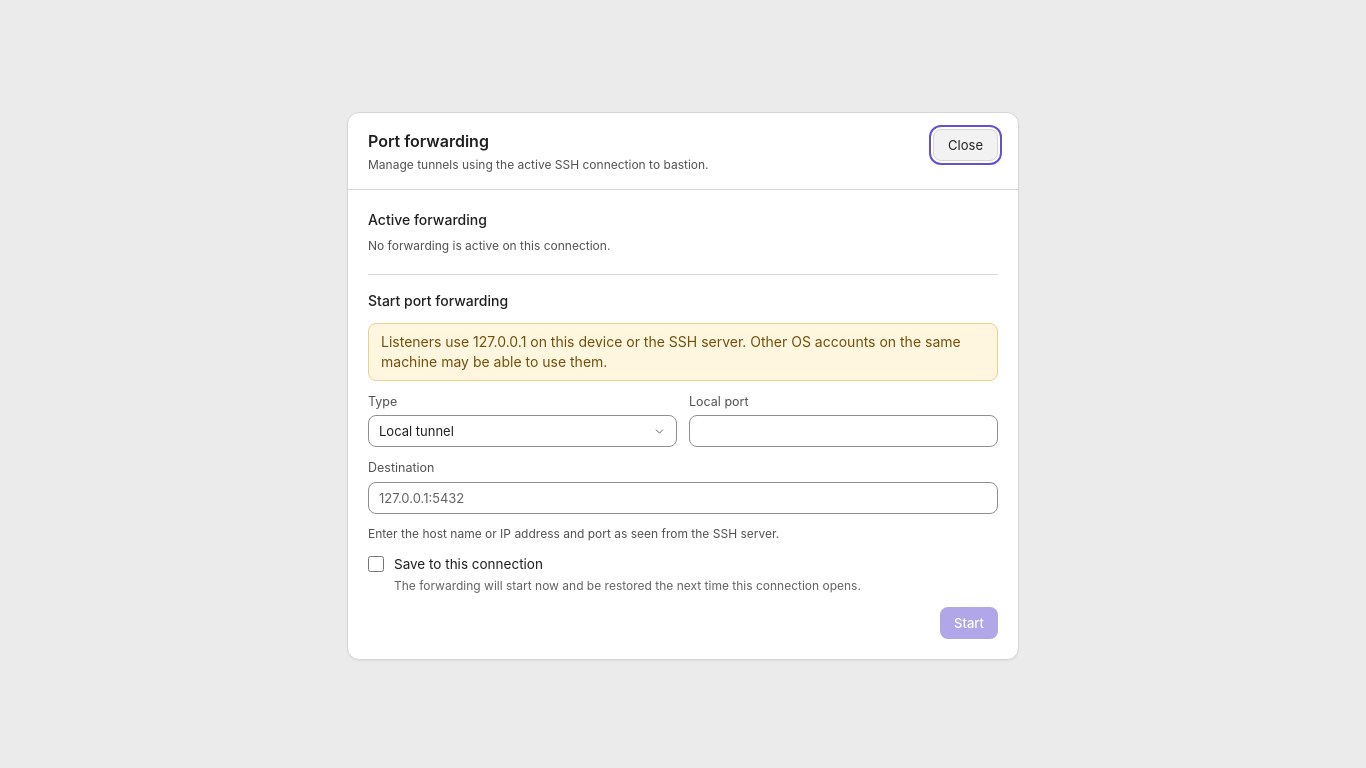
Test: TerminalPortForwards › explains when the SSH server denies the remote listener
Step 1. Select "Remote tunnel" in the dropdown labelled "Type" → (522, 431), box x1=368 y1=415 x2=677 y2=447
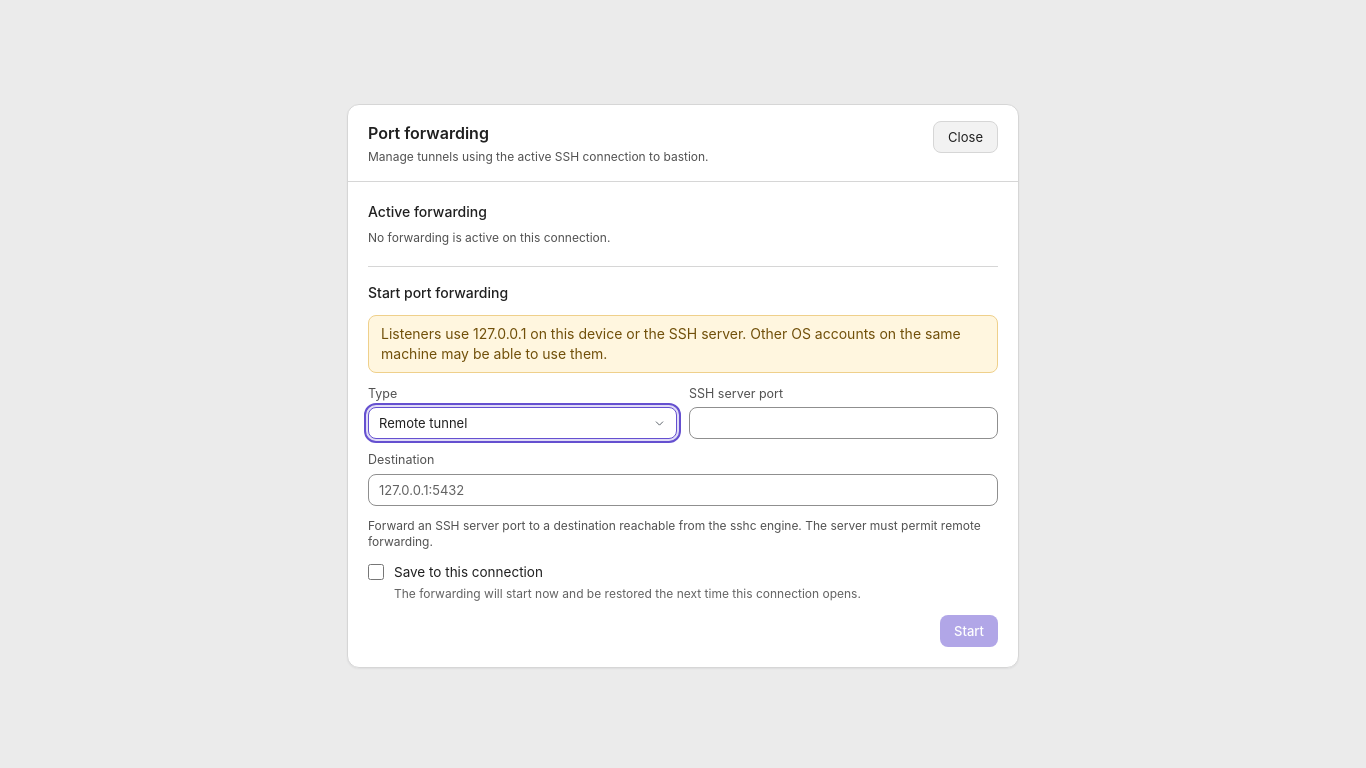
Step 2. Type "9080" into the field labelled "SSH server port" → (844, 423), box x1=689 y1=407 x2=998 y2=439
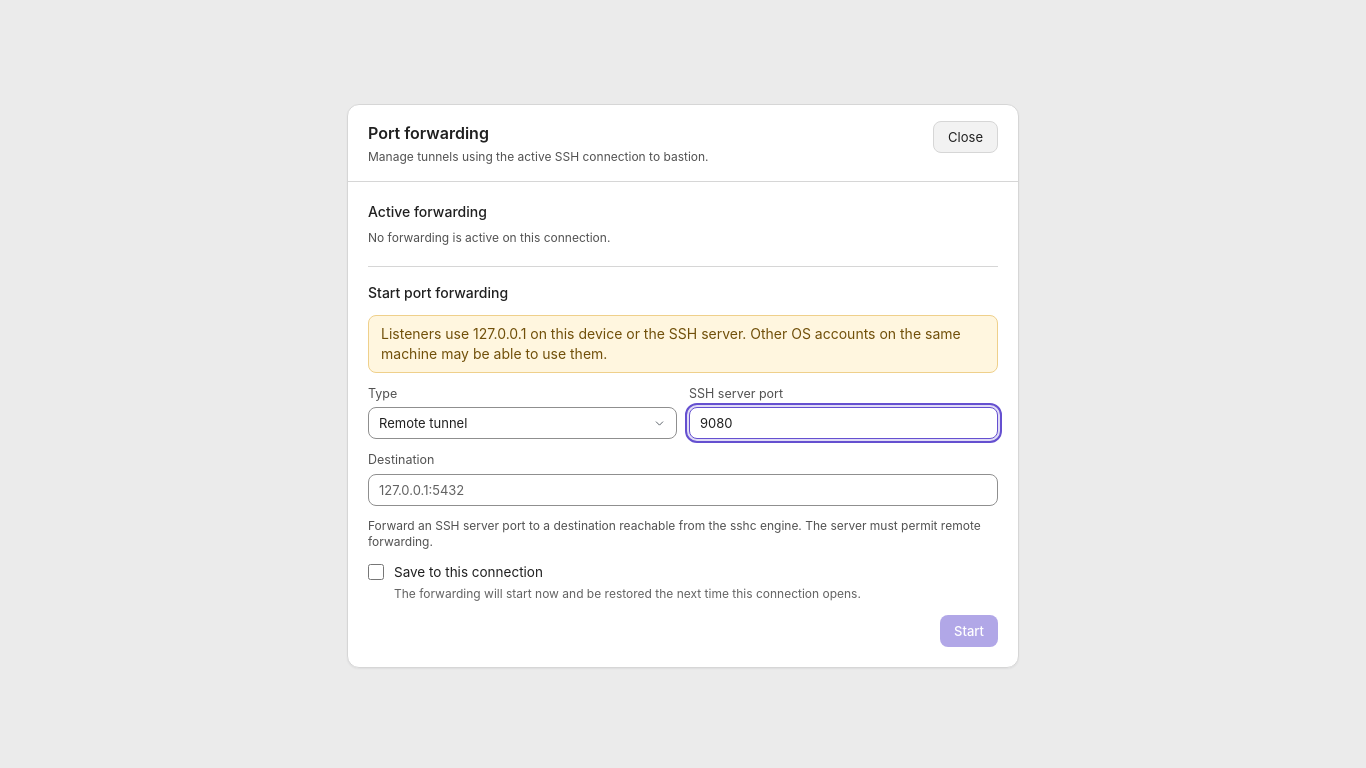
Step 3. Type "127.0.0.1:3000" into the field labelled "Destination" → (683, 490), box x1=368 y1=474 x2=998 y2=506
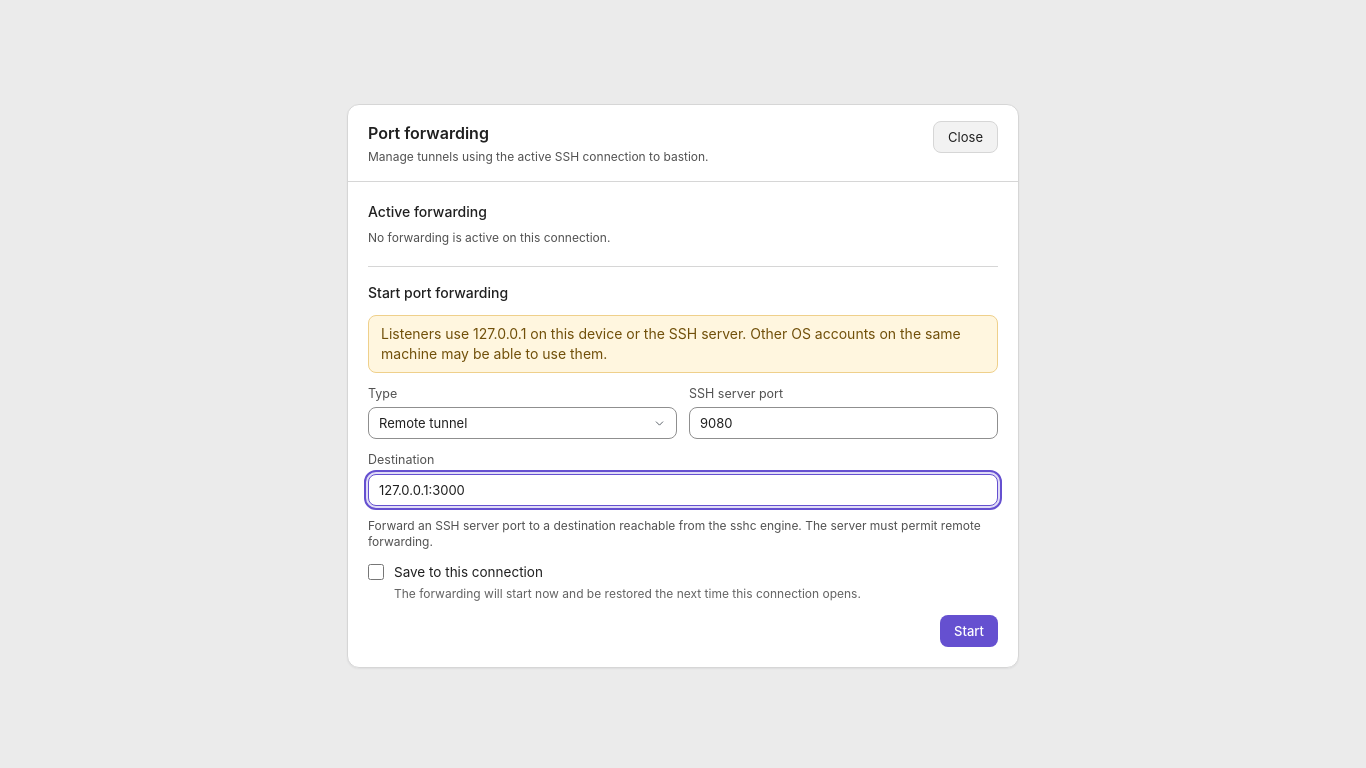
Step 4. Click the button "Start" → (969, 631), box x1=940 y1=615 x2=998 y2=647
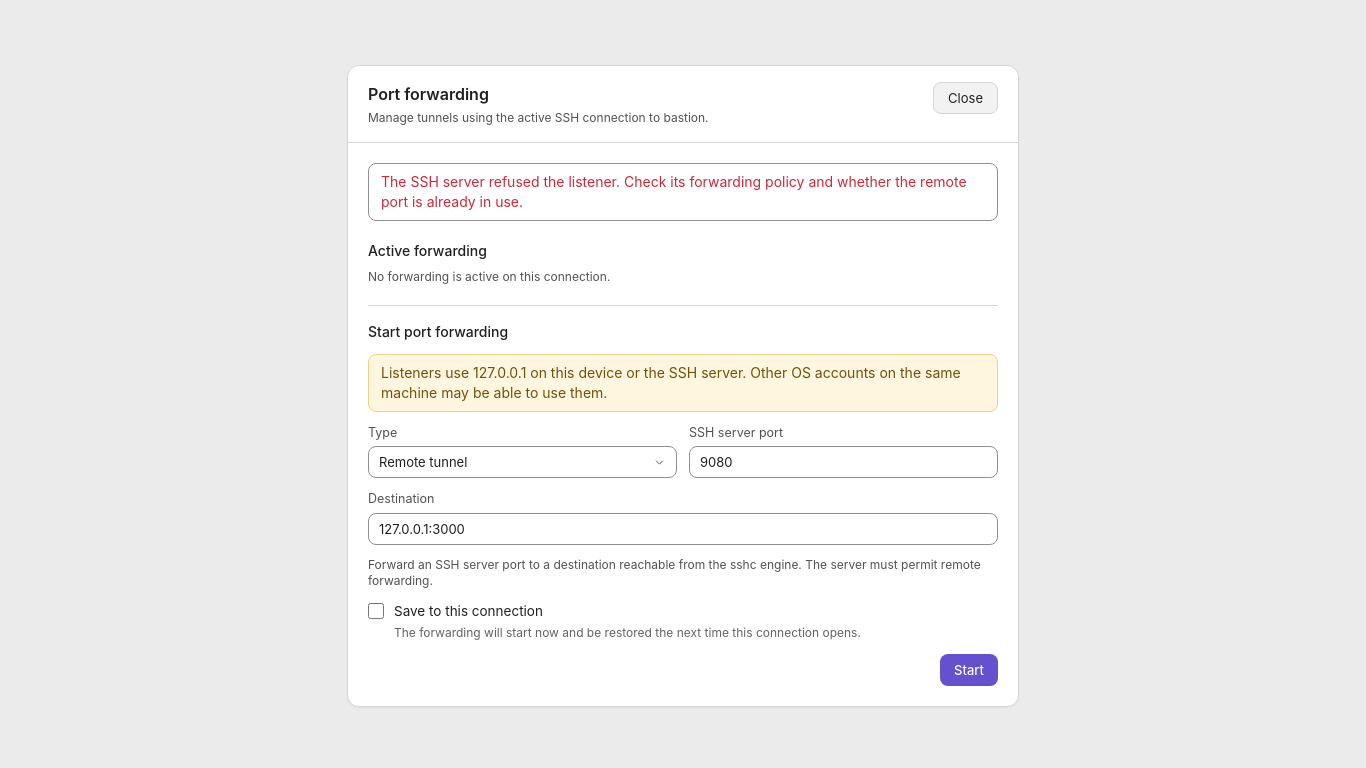
Now the 1st message shows "The SSH server refused the listener.", box x1=381 y1=173 x2=967 y2=210
